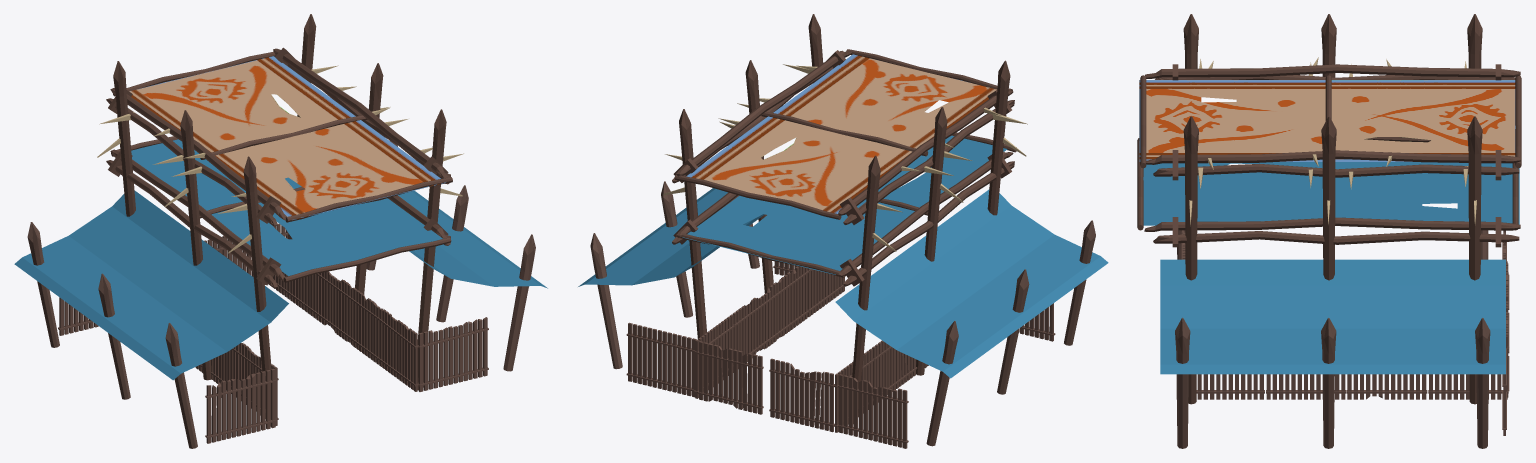
Rendered from SM_large_structure_01.fbx.
The picture shows the model from 3 angles, left to right: view 1: azimuth 30°, elevation 25°; view 2: azimuth 150°, elevation 25°; view 3: azimuth 270°, elevation 25°; orthographic projection. The views are drawn at different scales.
Visible parts, largest first — view 1: large_structure_01; view 2: large_structure_01; view 3: large_structure_01.
Part boxes in pixels (<box>): large_structure_01: <box>14,14,547,448</box>; large_structure_01: <box>578,14,1108,448</box>; large_structure_01: <box>1137,14,1521,448</box>.
Bounding box in the file's own units: 1049 × 731 × 855.
